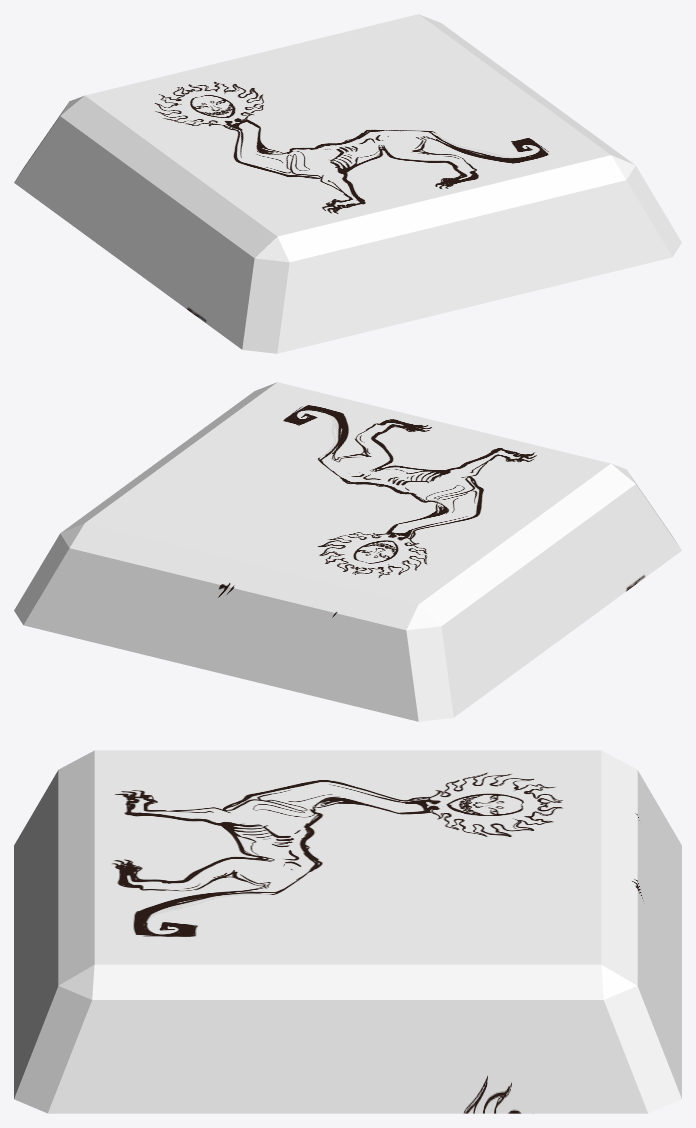
Rendered from mm-manticoreTile.fbx.
The picture shows the model from 3 angles, top to bottom: view 1: azimuth 30°, elevation 25°; view 2: azimuth 150°, elevation 25°; view 3: azimuth 270°, elevation 25°; orthographic projection. The views are drawn at different scales.
Parts seen in each view (by area): view 1: Cube; view 2: Cube; view 3: Cube.
Part boxes in pixels (left/top/right/bottom): Cube: left=14, top=14, right=681, bottom=353; Cube: left=14, top=382, right=681, bottom=721; Cube: left=14, top=750, right=681, bottom=1113.
Bounding box in the file's own units: 199 × 39.39 × 199.
